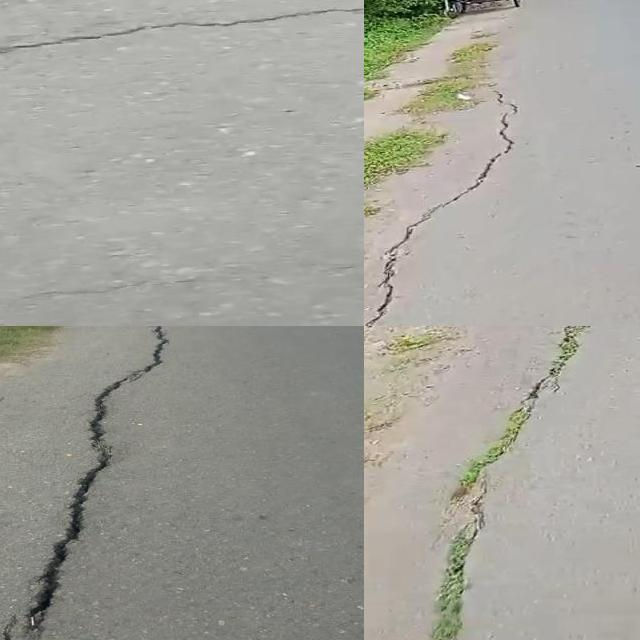Melintang: (0, 0, 364, 64)
Memanjang: (409, 326, 605, 640), (0, 326, 178, 640), (364, 78, 528, 326)
